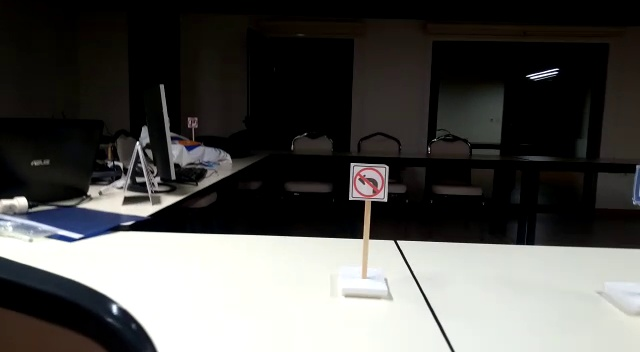sola_donulmez: (351, 161, 388, 199)
